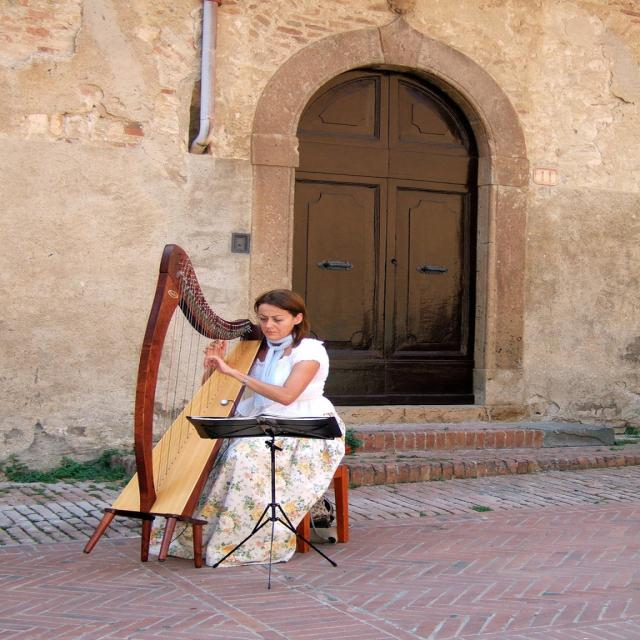harp: (90, 243, 268, 562)
